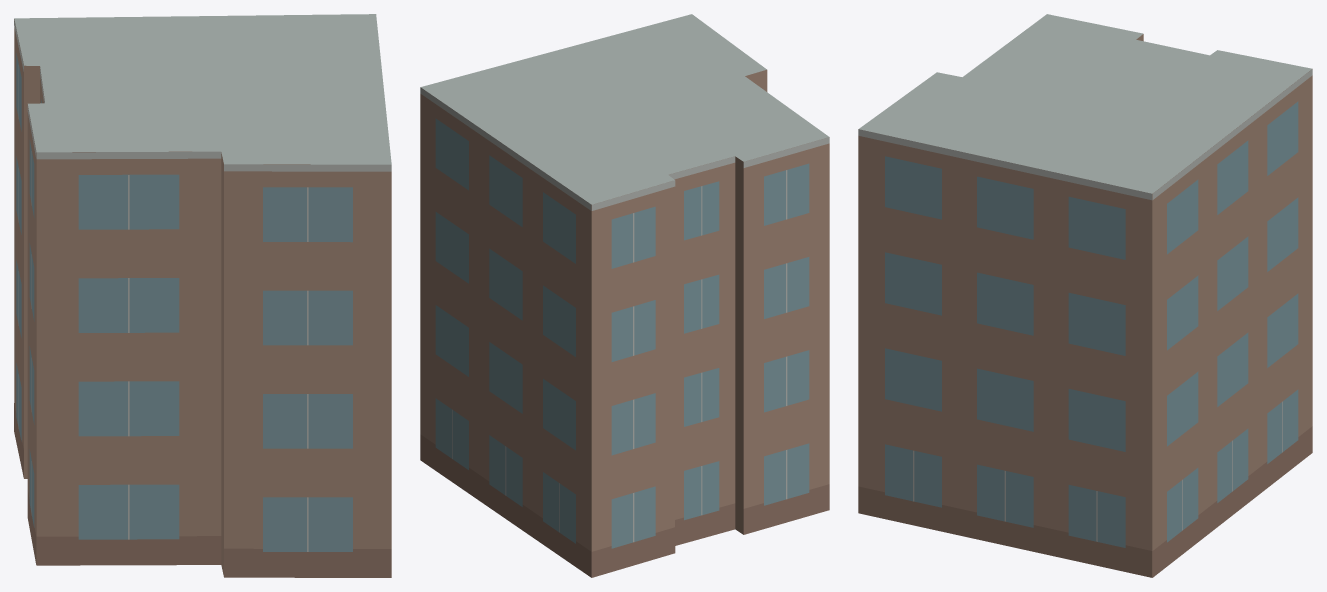
The model's file is survey-upis-32810794.glb.
3 renders of one model, left to right at view 1: azimuth 30°, elevation 25°; view 2: azimuth 150°, elevation 25°; view 3: azimuth 270°, elevation 25°, orthographic. The views are drawn at different scales.
Visible parts, largest first — view 1: survey-upis-32810794.tmp; view 2: survey-upis-32810794.tmp; view 3: survey-upis-32810794.tmp.
Boxes of the visible parts, x1,y1,x2,y2 form: survey-upis-32810794.tmp: (14,14,391,577); survey-upis-32810794.tmp: (420,14,829,577); survey-upis-32810794.tmp: (858,14,1312,577).
Bounding box in the file's own units: 14.26 × 14.2 × 15.22.
